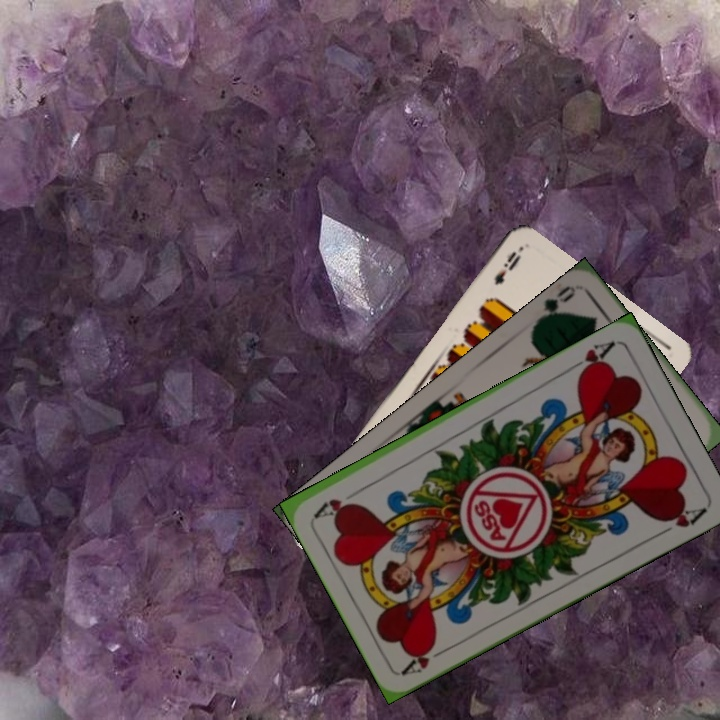E9: (490, 246, 524, 288)
GO: (530, 281, 578, 329)
HA: (564, 336, 618, 380), (398, 638, 454, 677)
